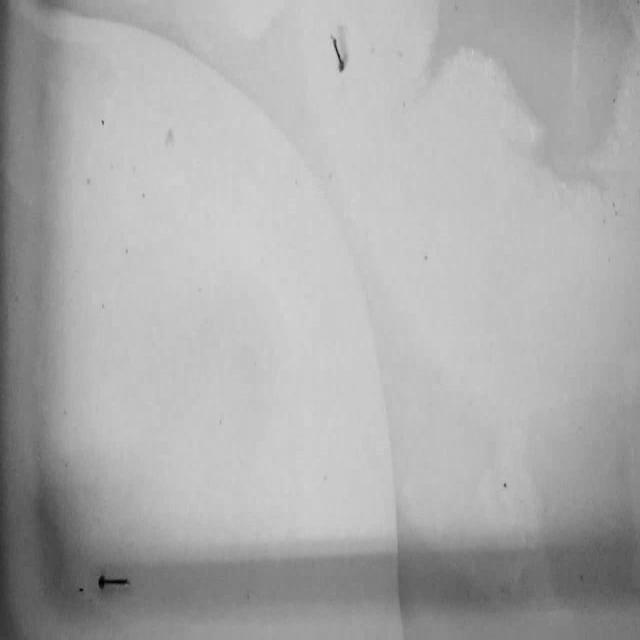larvas: (330, 34, 344, 74)
